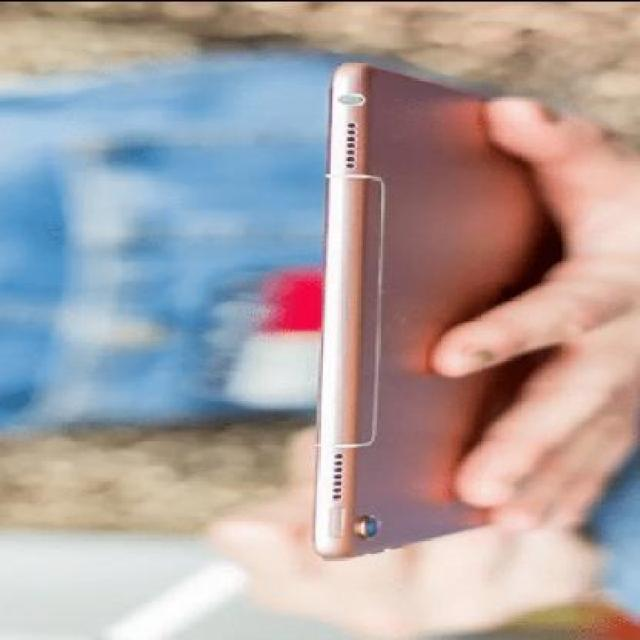tablet: (286, 41, 534, 600)
